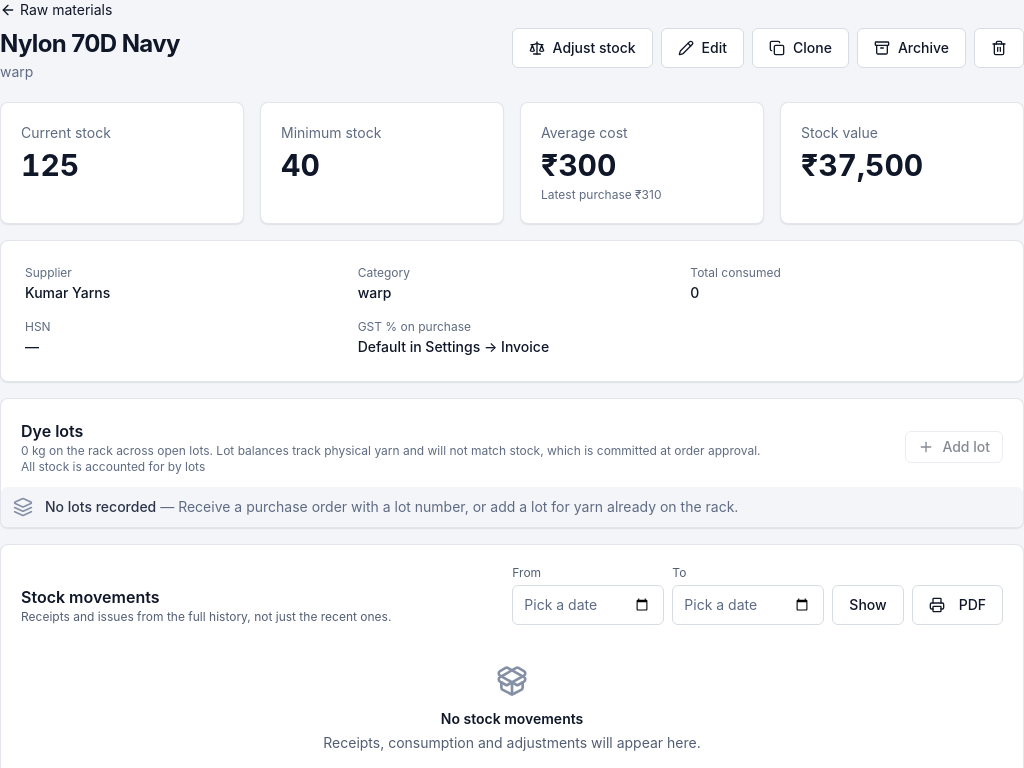
the edit form › shows the stock, and does not take a new one
The image size is (1024, 768).
What coordinates should you click on to do the following:
click the button "Edit"
I would click on:
 (702, 48)
Its box is [661,28,744,68].
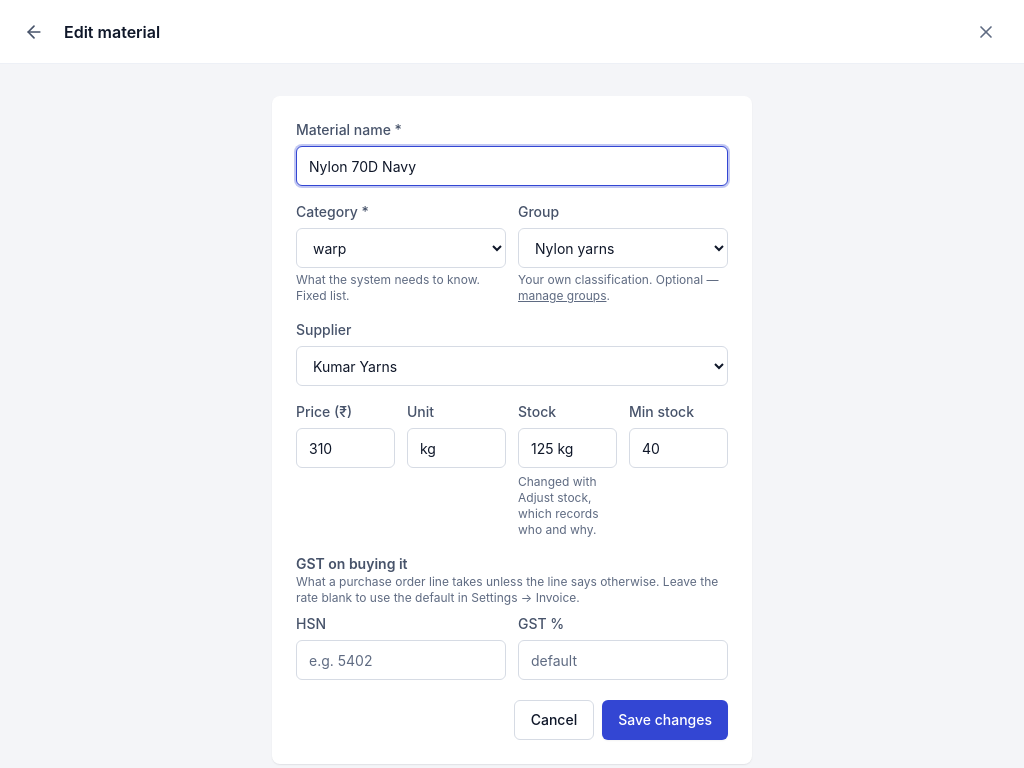
Expected: the field labelled "Stock" holds "125 kg", [518,428,617,468]
Expected: the field labelled "Stock" is disabled, [518,428,617,468]
Expected: the text "Changed with Adjust stock, which records who and why." is shown, [518,474,598,537]
